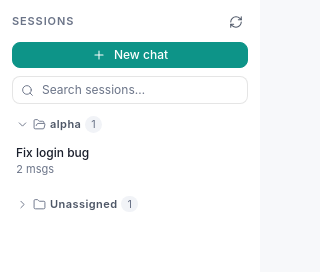
Test case: Sidebar › unassigned group is collapsed by default and expands on toggle
Check: the text "Unassigned" is shown, box top-left (50, 196), bottom-right (118, 212)
Check: the text "u1" is not shown
Click the button "Unassigned 1" at (130, 204), box top-left (8, 192), bottom-right (252, 216)
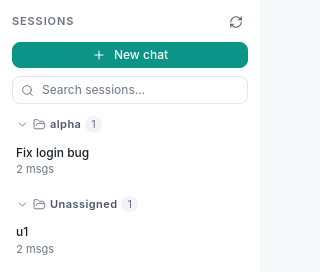
Check: the text "u1" is shown, box top-left (16, 224), bottom-right (28, 239)
